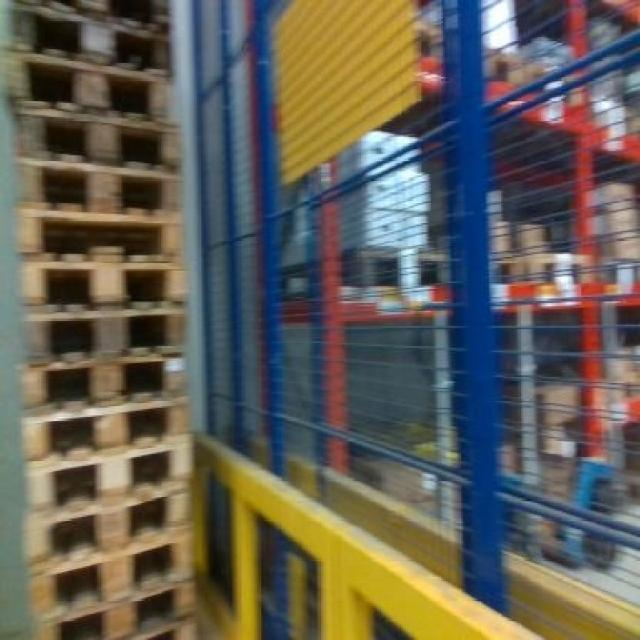pallets: (172, 0, 637, 637), (6, 0, 192, 637), (9, 0, 192, 637), (237, 494, 295, 534)
